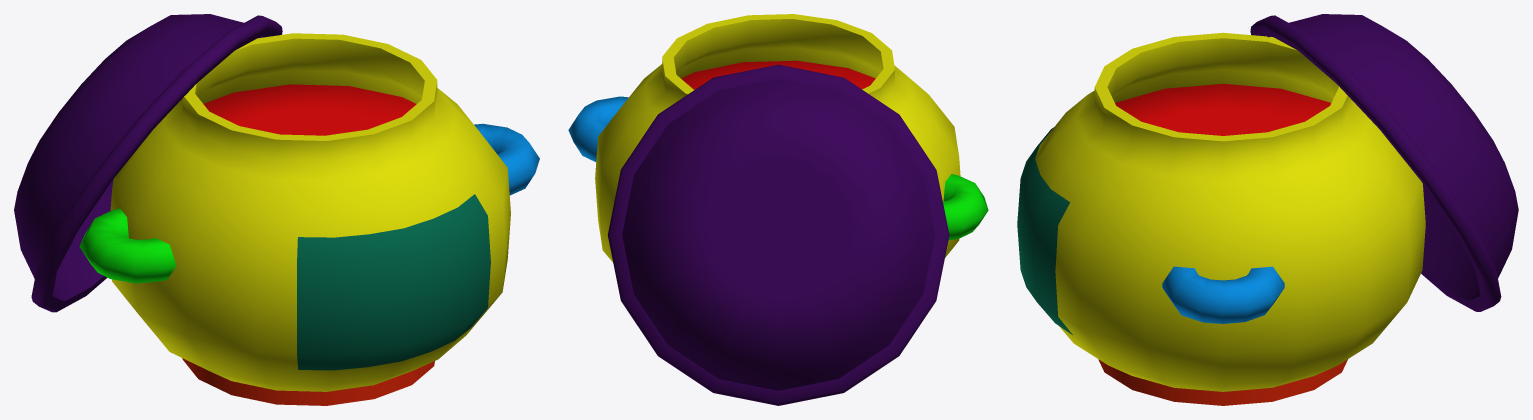
The model's file is Hangari.fbx.
The picture shows the model from 3 angles, left to right: view 1: azimuth 30°, elevation 25°; view 2: azimuth 150°, elevation 25°; view 3: azimuth 270°, elevation 25°; orthographic projection. The views are drawn at different scales.
Parts seen in each view (by area): view 1: Hangari; view 2: Hangari; view 3: Hangari.
Part boxes in pixels (box(x1,y1,x2,y2)): Hangari: box(14, 14, 539, 405); Hangari: box(568, 14, 988, 405); Hangari: box(1017, 14, 1518, 405).
Bounding box in the file's own units: 57.07 × 55.87 × 36.95.
